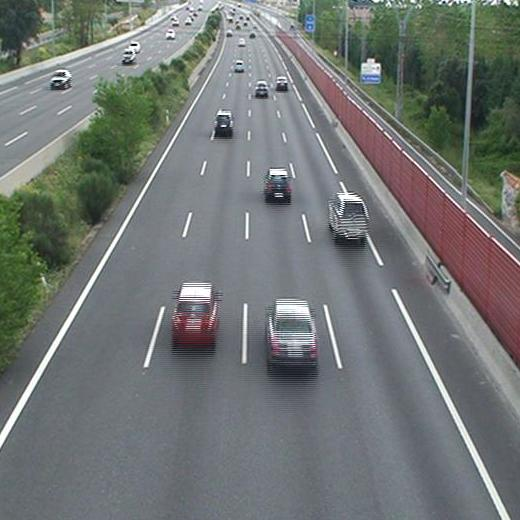car: (267, 301, 318, 364), (172, 283, 219, 345), (327, 195, 369, 237), (266, 169, 291, 197), (215, 112, 233, 132), (255, 82, 269, 95), (276, 76, 288, 88), (234, 61, 244, 71)
